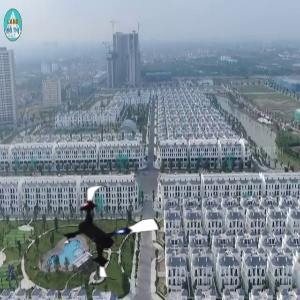drone: (59, 181, 162, 284)
